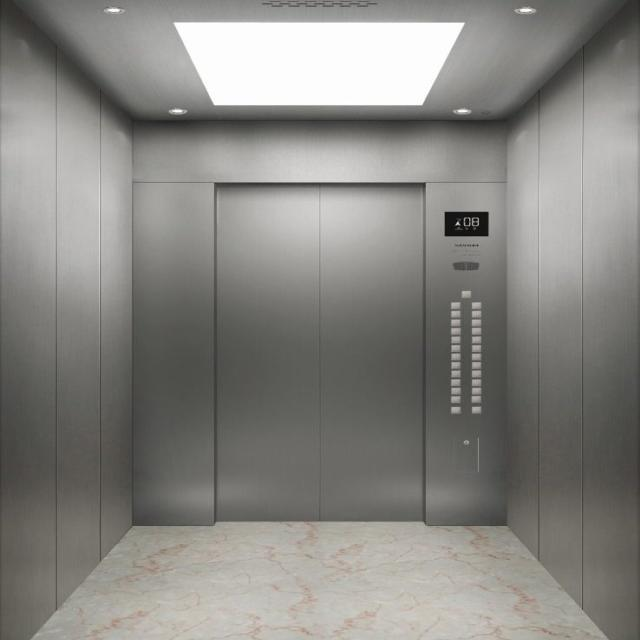elevator: (168, 160, 509, 541)
